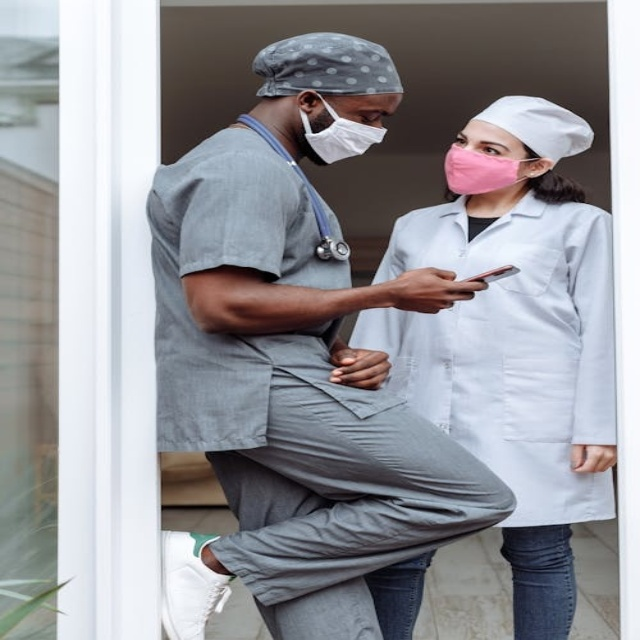Mascara: (299, 92, 386, 165), (443, 144, 536, 195)
Sin_gafas: (332, 92, 396, 129), (447, 124, 525, 154)
Sin_guantes: (384, 261, 493, 319), (327, 346, 393, 389), (567, 438, 621, 478)
